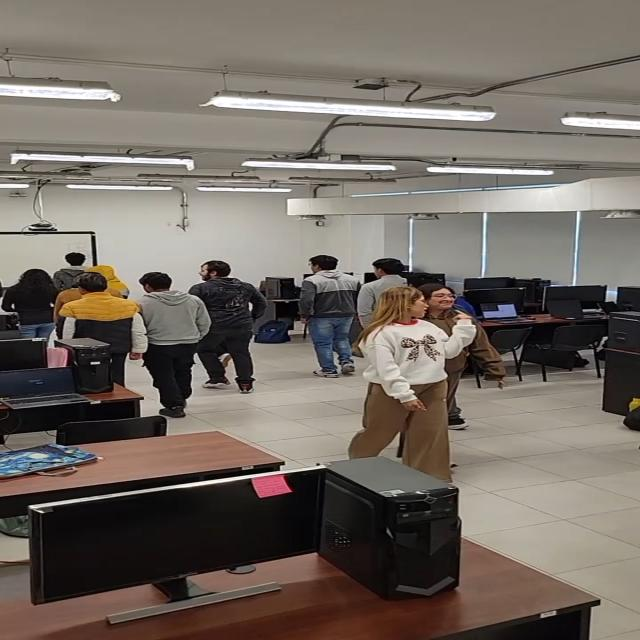Persona: (358, 280, 449, 470), (192, 265, 270, 380), (74, 273, 148, 386), (142, 265, 195, 410), (304, 252, 358, 378), (427, 262, 497, 354), (9, 268, 64, 348)
